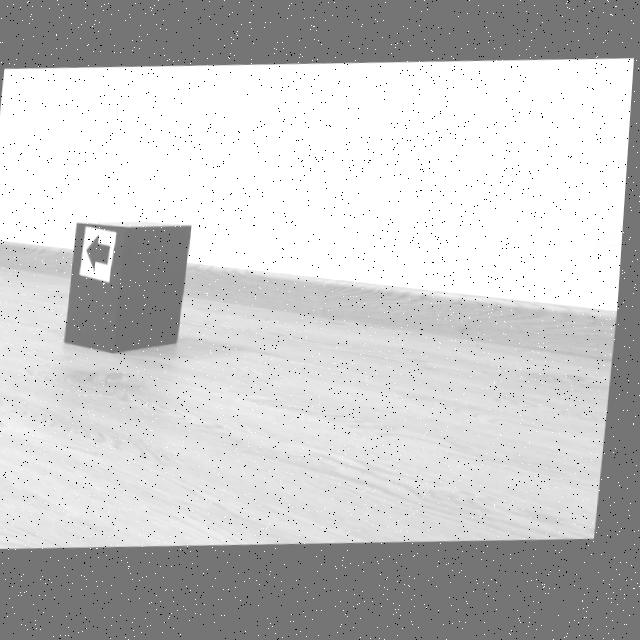LEFT: (89, 237, 114, 271)
